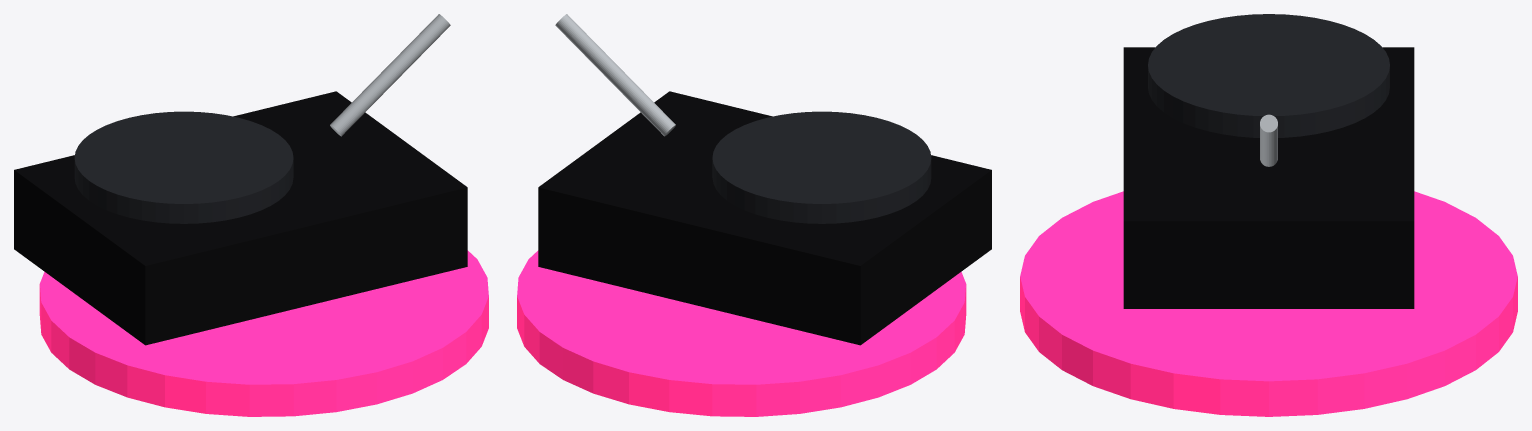
Rendered from music_turntable.dae.
The picture shows the model from 3 angles, left to right: view 1: azimuth 30°, elevation 25°; view 2: azimuth 150°, elevation 25°; view 3: azimuth 270°, elevation 25°; orthographic projection. The views are drawn at different scales.
Visible parts, largest first — view 1: 07_17_Popular_Music_Turntable_part_01, 07_17_Popular_Music_Turntable_ROOT_base, 07_17_Popular_Music_Turntable_part_02, 07_17_Popular_Music_Turntable_part_03; view 2: 07_17_Popular_Music_Turntable_part_01, 07_17_Popular_Music_Turntable_ROOT_base, 07_17_Popular_Music_Turntable_part_02, 07_17_Popular_Music_Turntable_part_03; view 3: 07_17_Popular_Music_Turntable_ROOT_base, 07_17_Popular_Music_Turntable_part_01, 07_17_Popular_Music_Turntable_part_02, 07_17_Popular_Music_Turntable_part_03.
Boxes of the visible parts, box(x1,y1,x2,y2) form: 07_17_Popular_Music_Turntable_part_01: box(14, 91, 467, 345); 07_17_Popular_Music_Turntable_ROOT_base: box(39, 250, 488, 416); 07_17_Popular_Music_Turntable_part_02: box(74, 111, 293, 223); 07_17_Popular_Music_Turntable_part_03: box(330, 14, 450, 136); 07_17_Popular_Music_Turntable_part_01: box(538, 91, 991, 345); 07_17_Popular_Music_Turntable_ROOT_base: box(517, 250, 966, 416); 07_17_Popular_Music_Turntable_part_02: box(712, 111, 931, 223); 07_17_Popular_Music_Turntable_part_03: box(555, 14, 675, 136); 07_17_Popular_Music_Turntable_ROOT_base: box(1020, 191, 1517, 416); 07_17_Popular_Music_Turntable_part_01: box(1123, 47, 1414, 308); 07_17_Popular_Music_Turntable_part_02: box(1148, 14, 1389, 137); 07_17_Popular_Music_Turntable_part_03: box(1260, 114, 1277, 166).
Bounding box in the file's own units: 0.76 × 0.4924 × 0.76.
